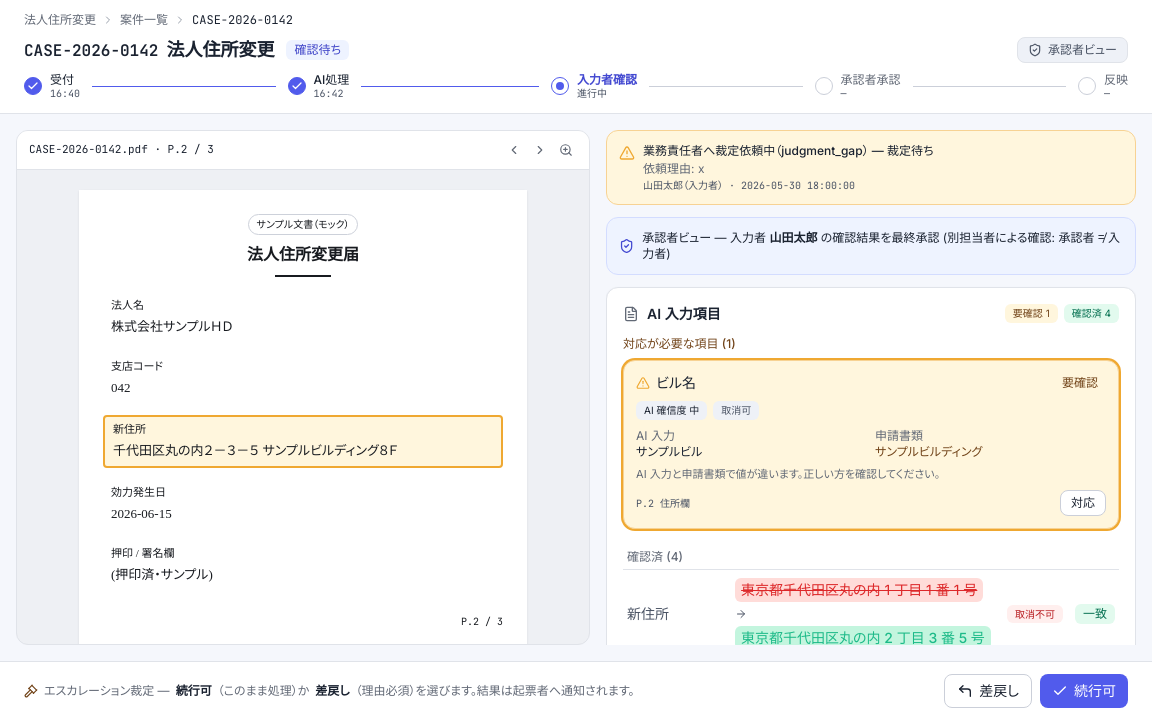
Test: W3 escalation: CaseDetail 裁定面 › F-016 続行可: 裁定後マーカーが「続行可」へ変わり、裁定面は消える (status 不変)
Click the button "続行可" at (1084, 691), box [1040, 674, 1128, 708]
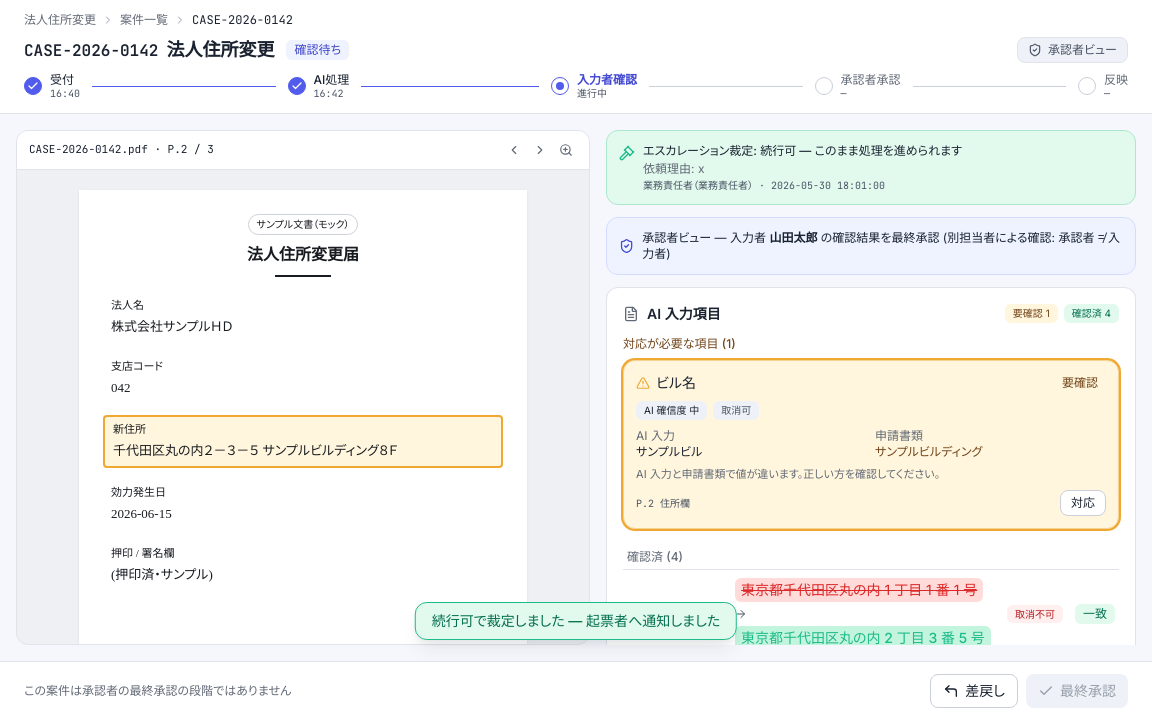
Check: the text "エスカレーション裁定: 続行可 — このまま処理を進められます" is shown, box [643, 142, 962, 158]
Check: the text "業務責任者へ裁定依頼中" is gone
